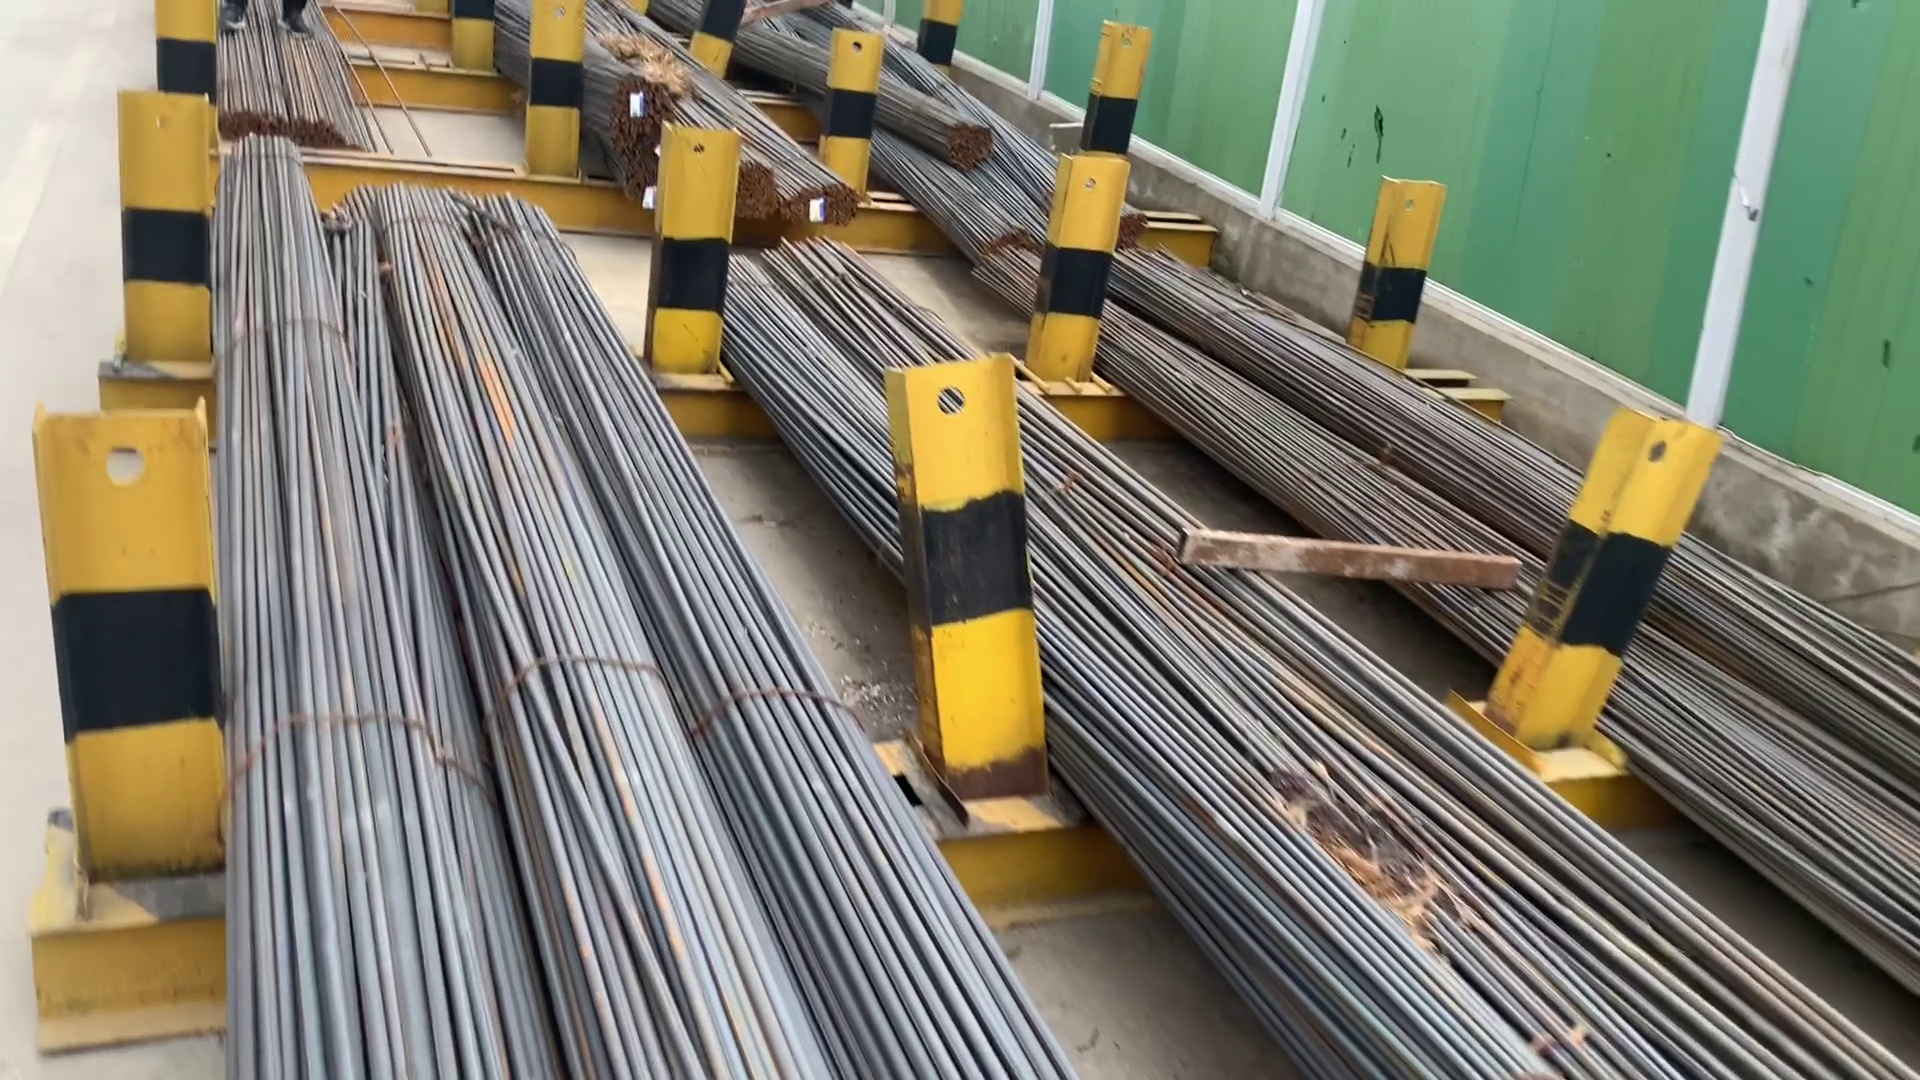rebar: (607, 80, 662, 193), (783, 164, 869, 231), (210, 98, 287, 141), (291, 113, 375, 153), (731, 161, 781, 225), (945, 112, 1002, 167)
